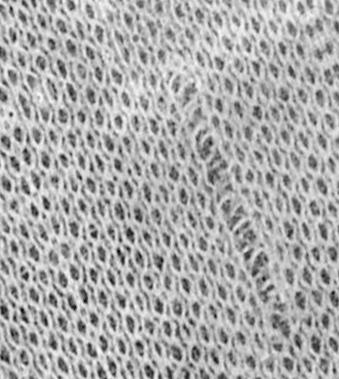slub: (169, 67, 293, 322)
